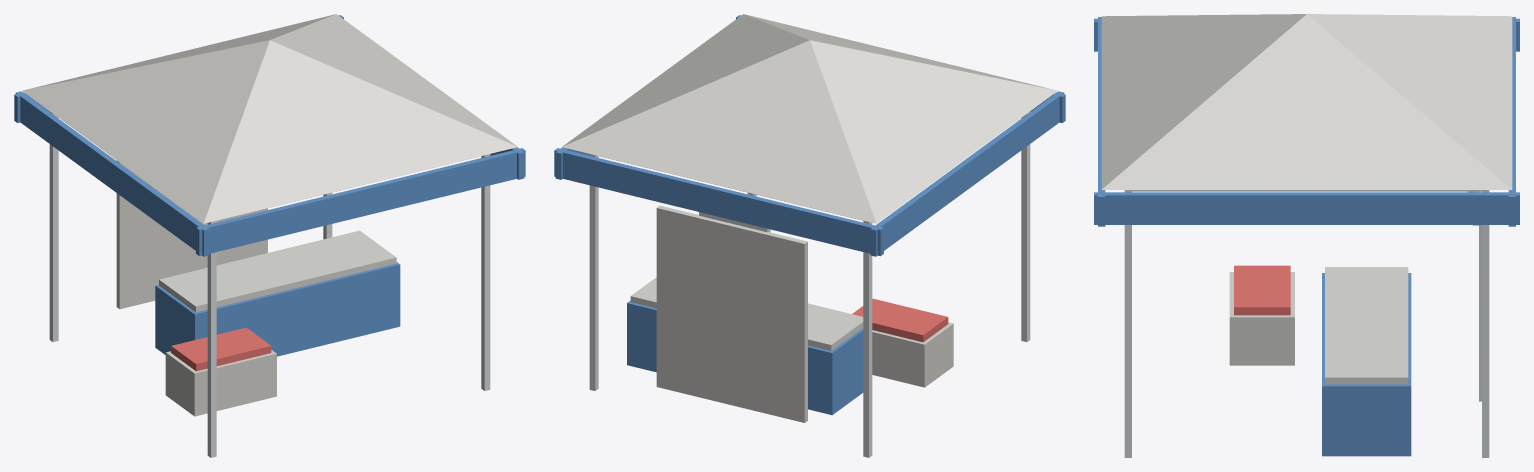
Rendered from hot-air-balloon-festival-first-aid-point-6dcf2ae6__38522.glb.
3 views of the same model, side by side, from view 1: azimuth 30°, elevation 25°; view 2: azimuth 150°, elevation 25°; view 3: azimuth 270°, elevation 25° (orthographic). The views are drawn at different scales.
Visible parts, largest first — view 1: first-aid-point-canvasB, first-aid-point-canvasC, first-aid-point-steel, first-aid-point-canvasA; view 2: first-aid-point-canvasB, first-aid-point-canvasC, first-aid-point-steel, first-aid-point-canvasA; view 3: first-aid-point-canvasB, first-aid-point-canvasC, first-aid-point-steel, first-aid-point-canvasA.
Part boxes in pixels (bbox=[...]): first-aid-point-canvasB: bbox=[22, 14, 517, 416]; first-aid-point-canvasC: bbox=[14, 15, 525, 356]; first-aid-point-steel: bbox=[49, 111, 490, 457]; first-aid-point-canvasA: bbox=[171, 327, 271, 371]; first-aid-point-canvasB: bbox=[562, 14, 1057, 422]; first-aid-point-canvasC: bbox=[554, 15, 1065, 415]; first-aid-point-steel: bbox=[589, 111, 1030, 457]; first-aid-point-canvasA: bbox=[852, 298, 948, 342]; first-aid-point-canvasB: bbox=[1101, 14, 1512, 401]; first-aid-point-canvasC: bbox=[1094, 17, 1519, 456]; first-aid-point-steel: bbox=[1124, 190, 1489, 457]; first-aid-point-canvasA: bbox=[1234, 265, 1290, 315].
Size of the model in its own units: 2.86 by 2.72 by 2.86.
